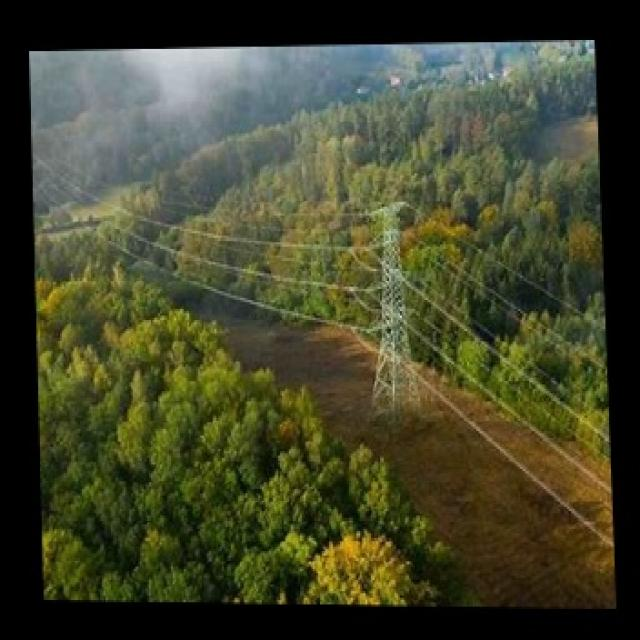utility poles: (361, 195, 437, 427)
